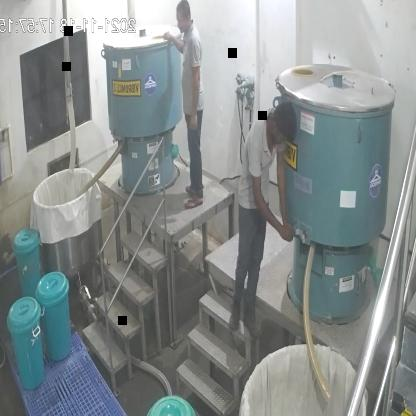no_glove: (252, 166, 289, 248), (183, 61, 200, 131)
no_shoes: (185, 194, 203, 209)
shoes: (227, 298, 243, 334)
